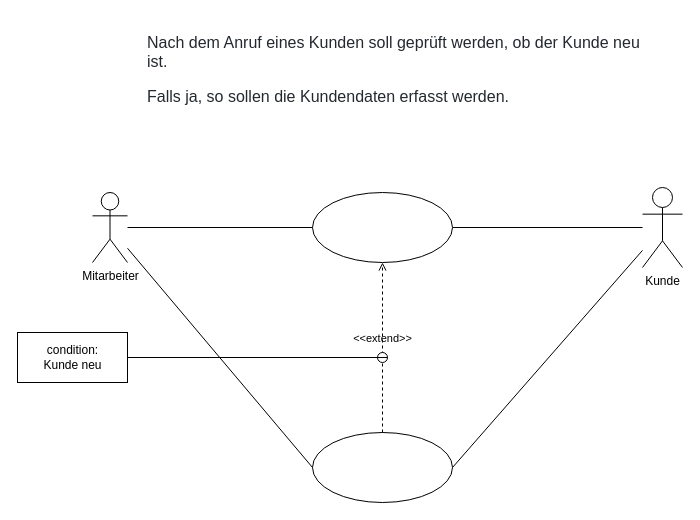
Some shapes in this 700 by 520 pixel diagram are drawn without their labels. The centre of each missing label's shape, as x and y in pixels:
Bestellanruf: pixel 382 227
Kundendaten erfassen: pixel 382 467
